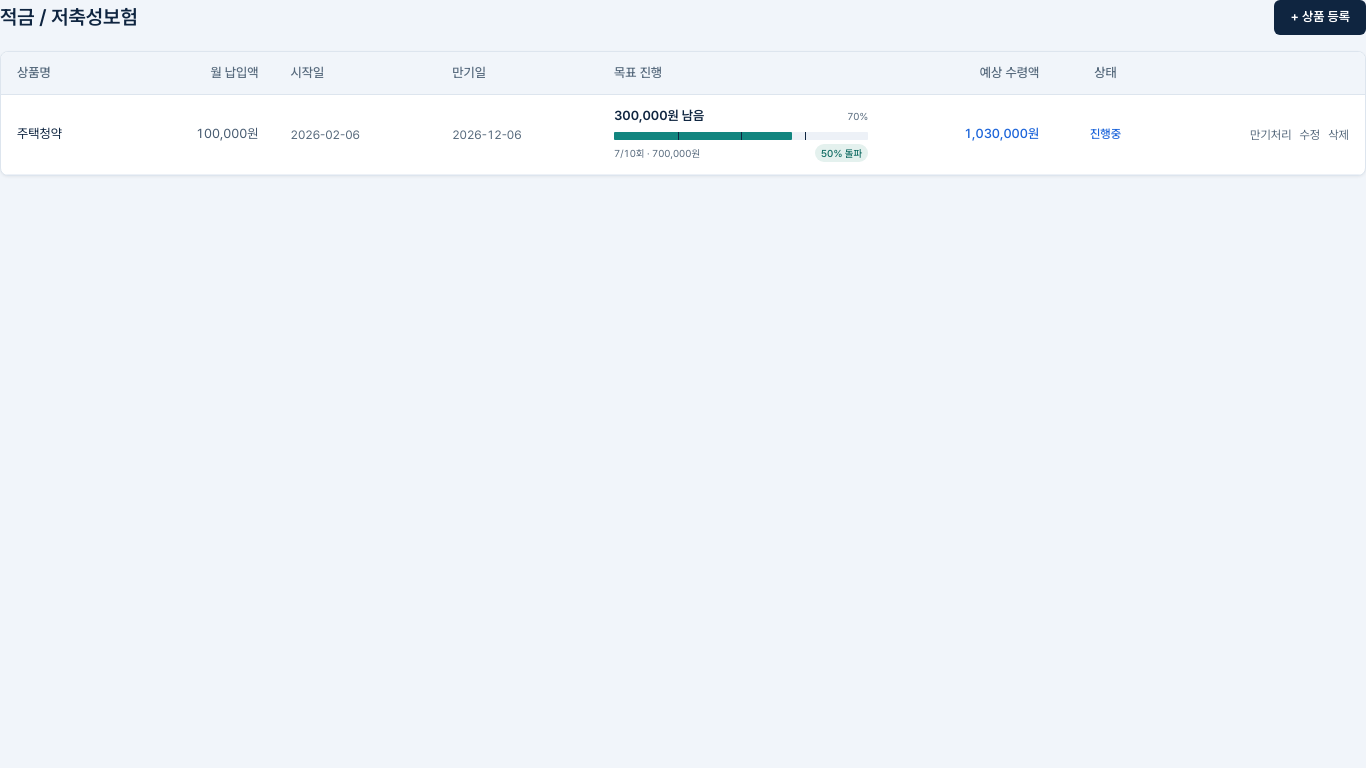
Test: 만기 처리 › 취소하면 아무것도 부르지 않는다
Click the button "만기처리".
click(1271, 134)  # box [1250,126,1292,142]
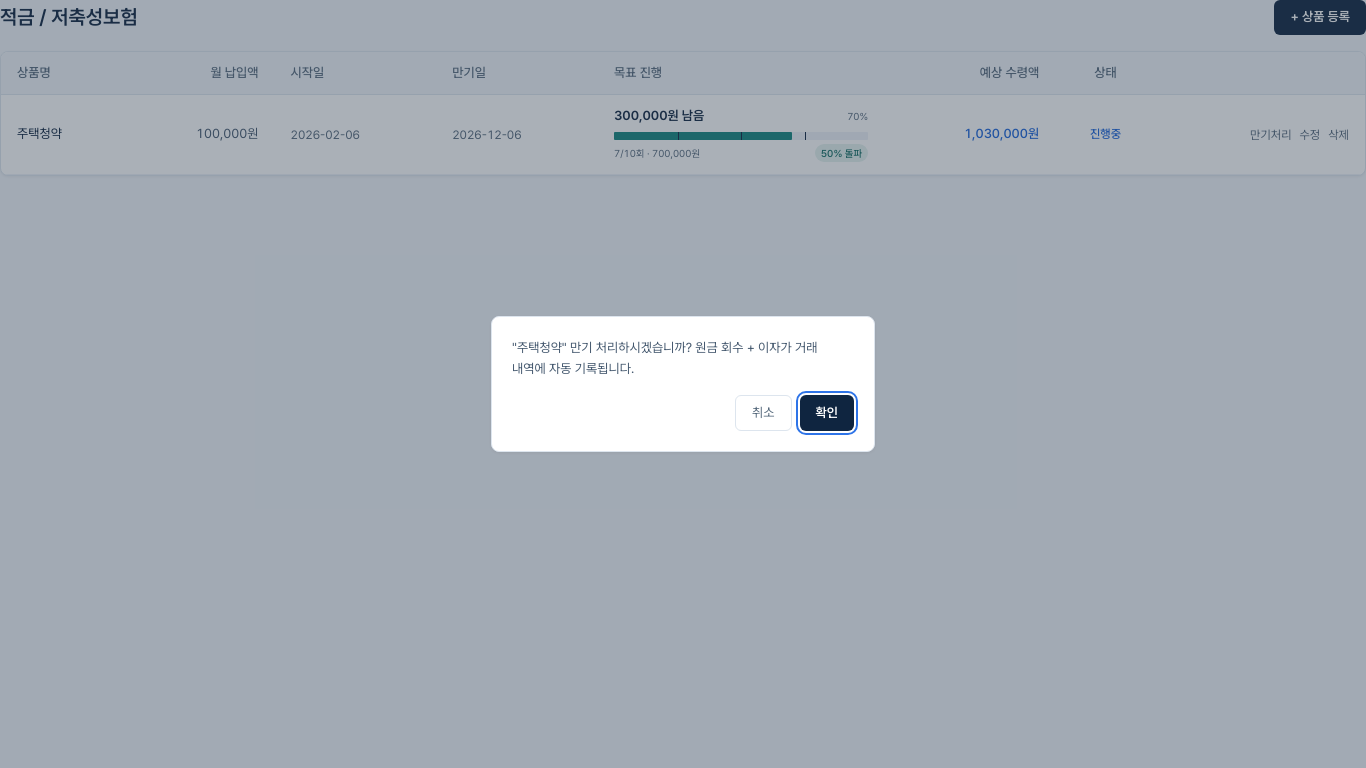
Click the button "취소".
click(763, 413)  # box [735,395,792,431]
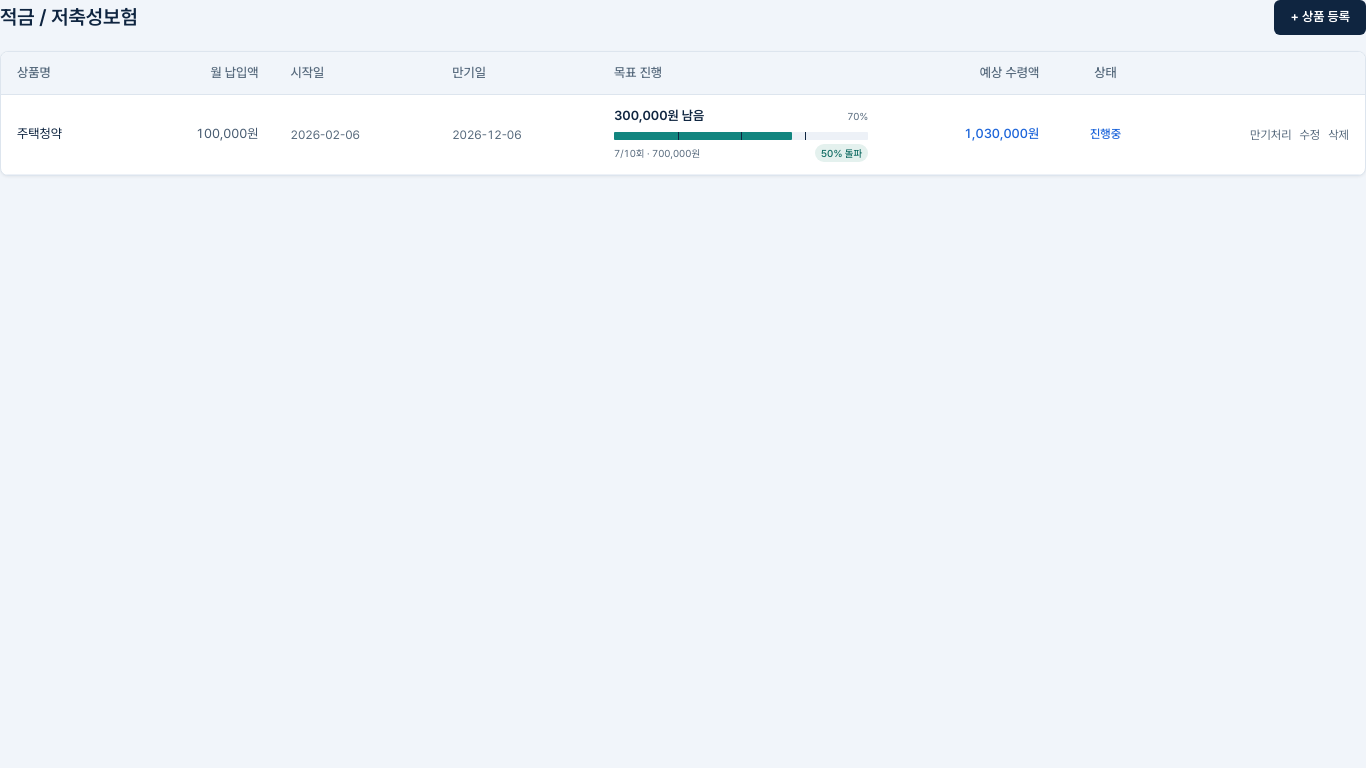
Result: the dialog is gone
